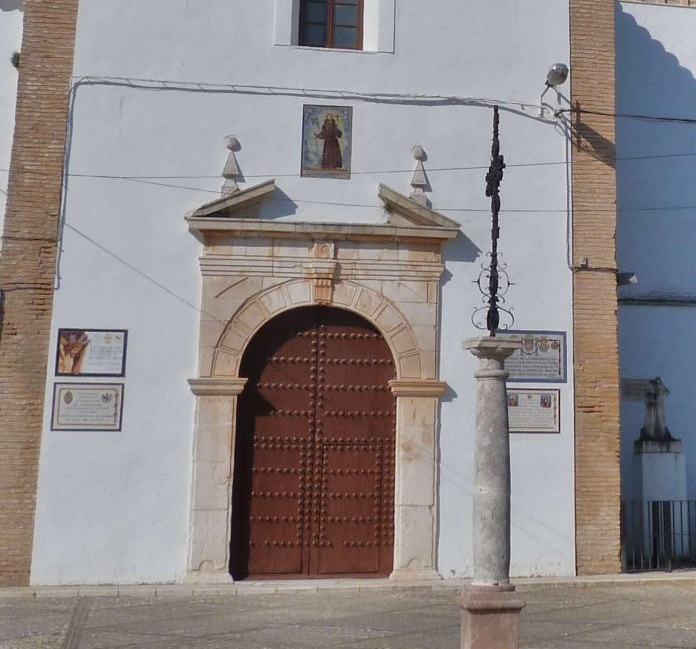arco-medio-punto: (227, 295, 407, 410)
fronton-partido: (181, 177, 465, 246)
